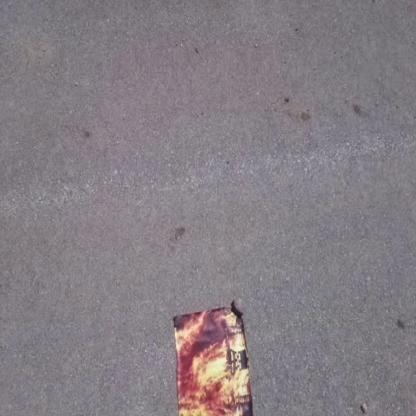fire-poster: (171, 299, 255, 415)
